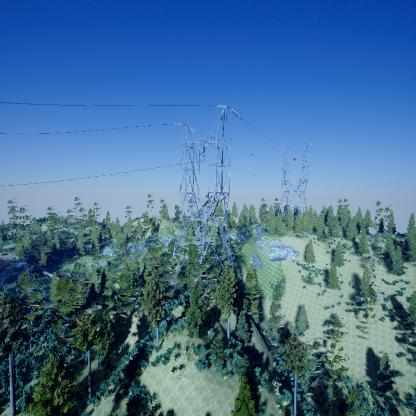tower: (170, 102, 244, 271), (277, 142, 314, 218)
